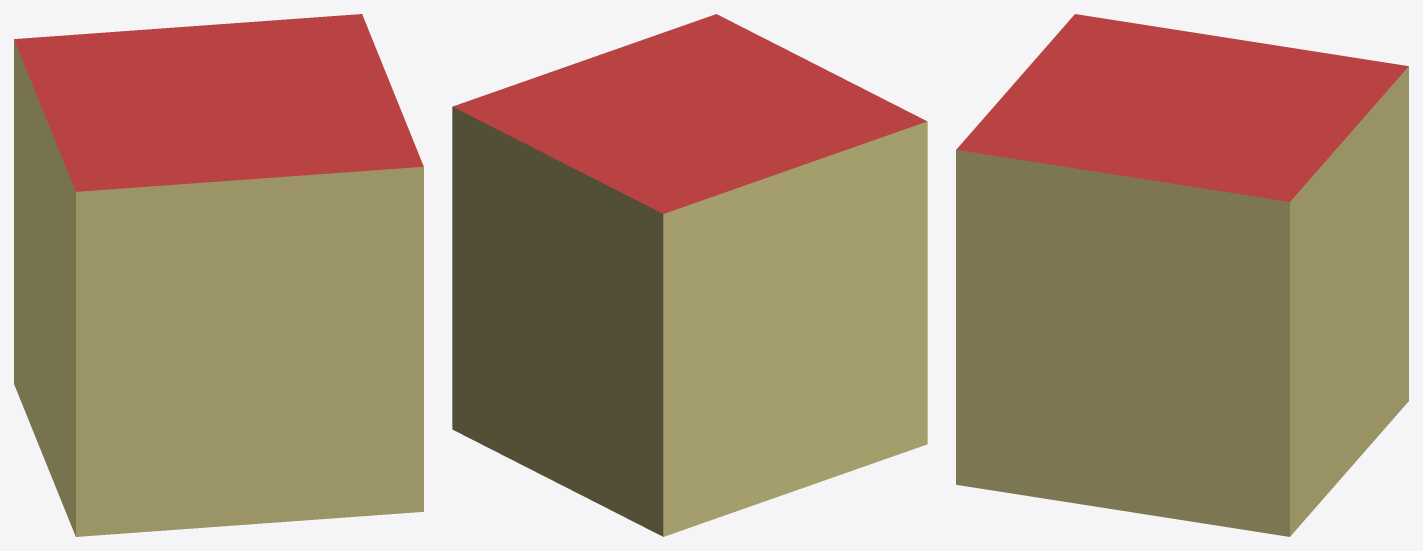
The picture shows the model from 3 angles, left to right: view 1: azimuth 30°, elevation 25°; view 2: azimuth 150°, elevation 25°; view 3: azimuth 270°, elevation 25°; orthographic projection. The views are drawn at different scales.
Bounding box in the file's own units: 8.17 × 8.31 × 6.79.
